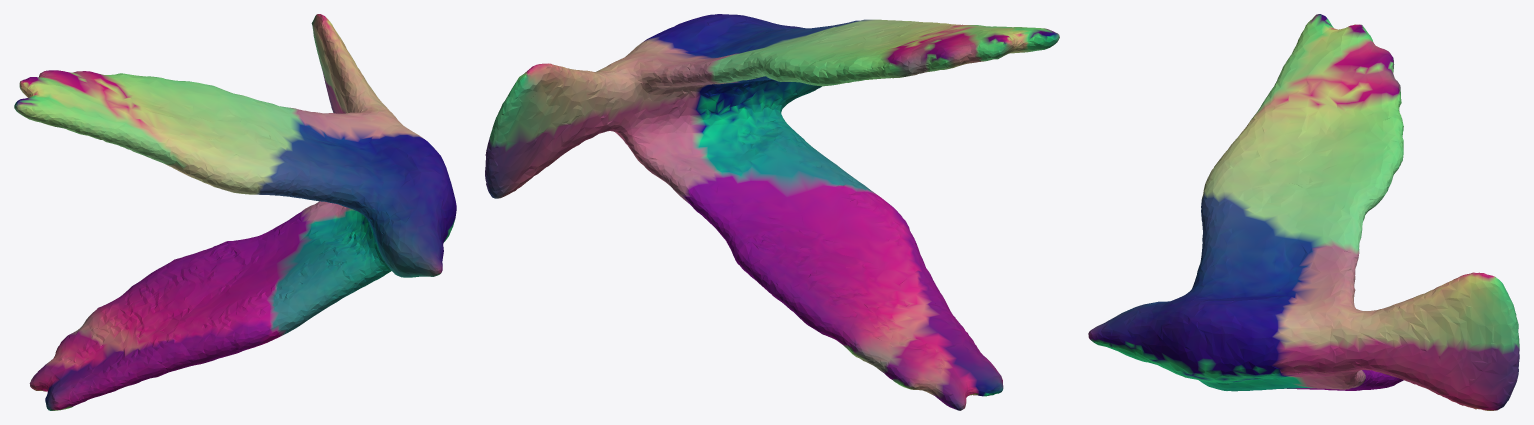
The model's file is bird1-8.off.obj.
3 views of the same model, side by side, from view 1: azimuth 30°, elevation 25°; view 2: azimuth 150°, elevation 25°; view 3: azimuth 270°, elevation 25° (orthographic). The views are drawn at different scales.
Size of the model in its own units: 1.36 by 1.01 by 1.18.
